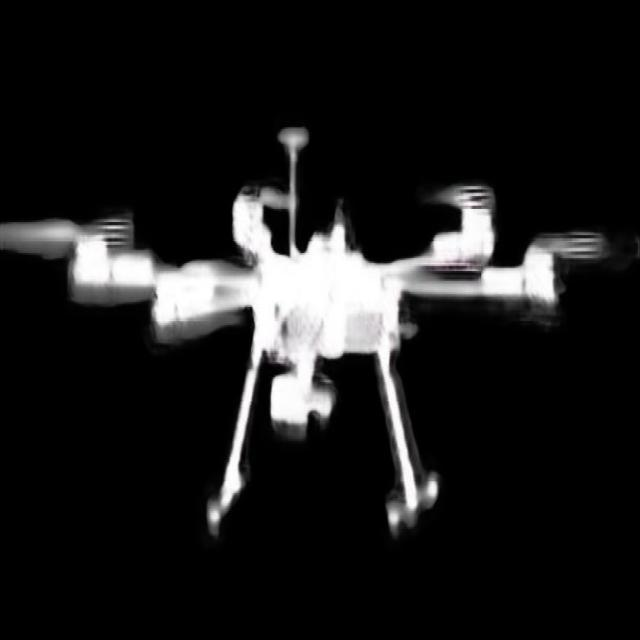drone: (20, 125, 631, 540)
